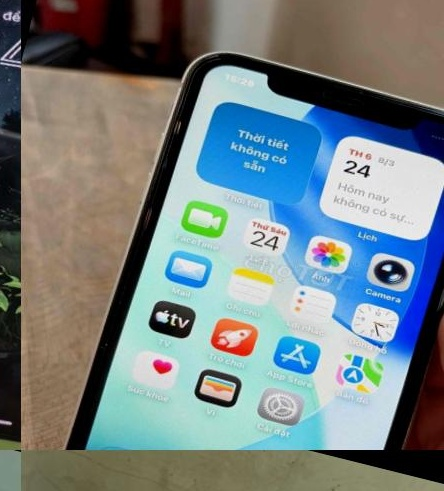scratch: (340, 80, 372, 105)
